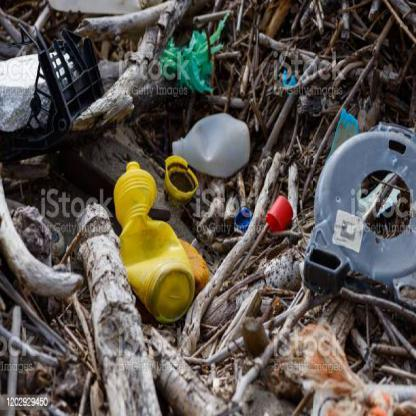Plastic: (112, 157, 197, 325), (168, 108, 256, 179)
